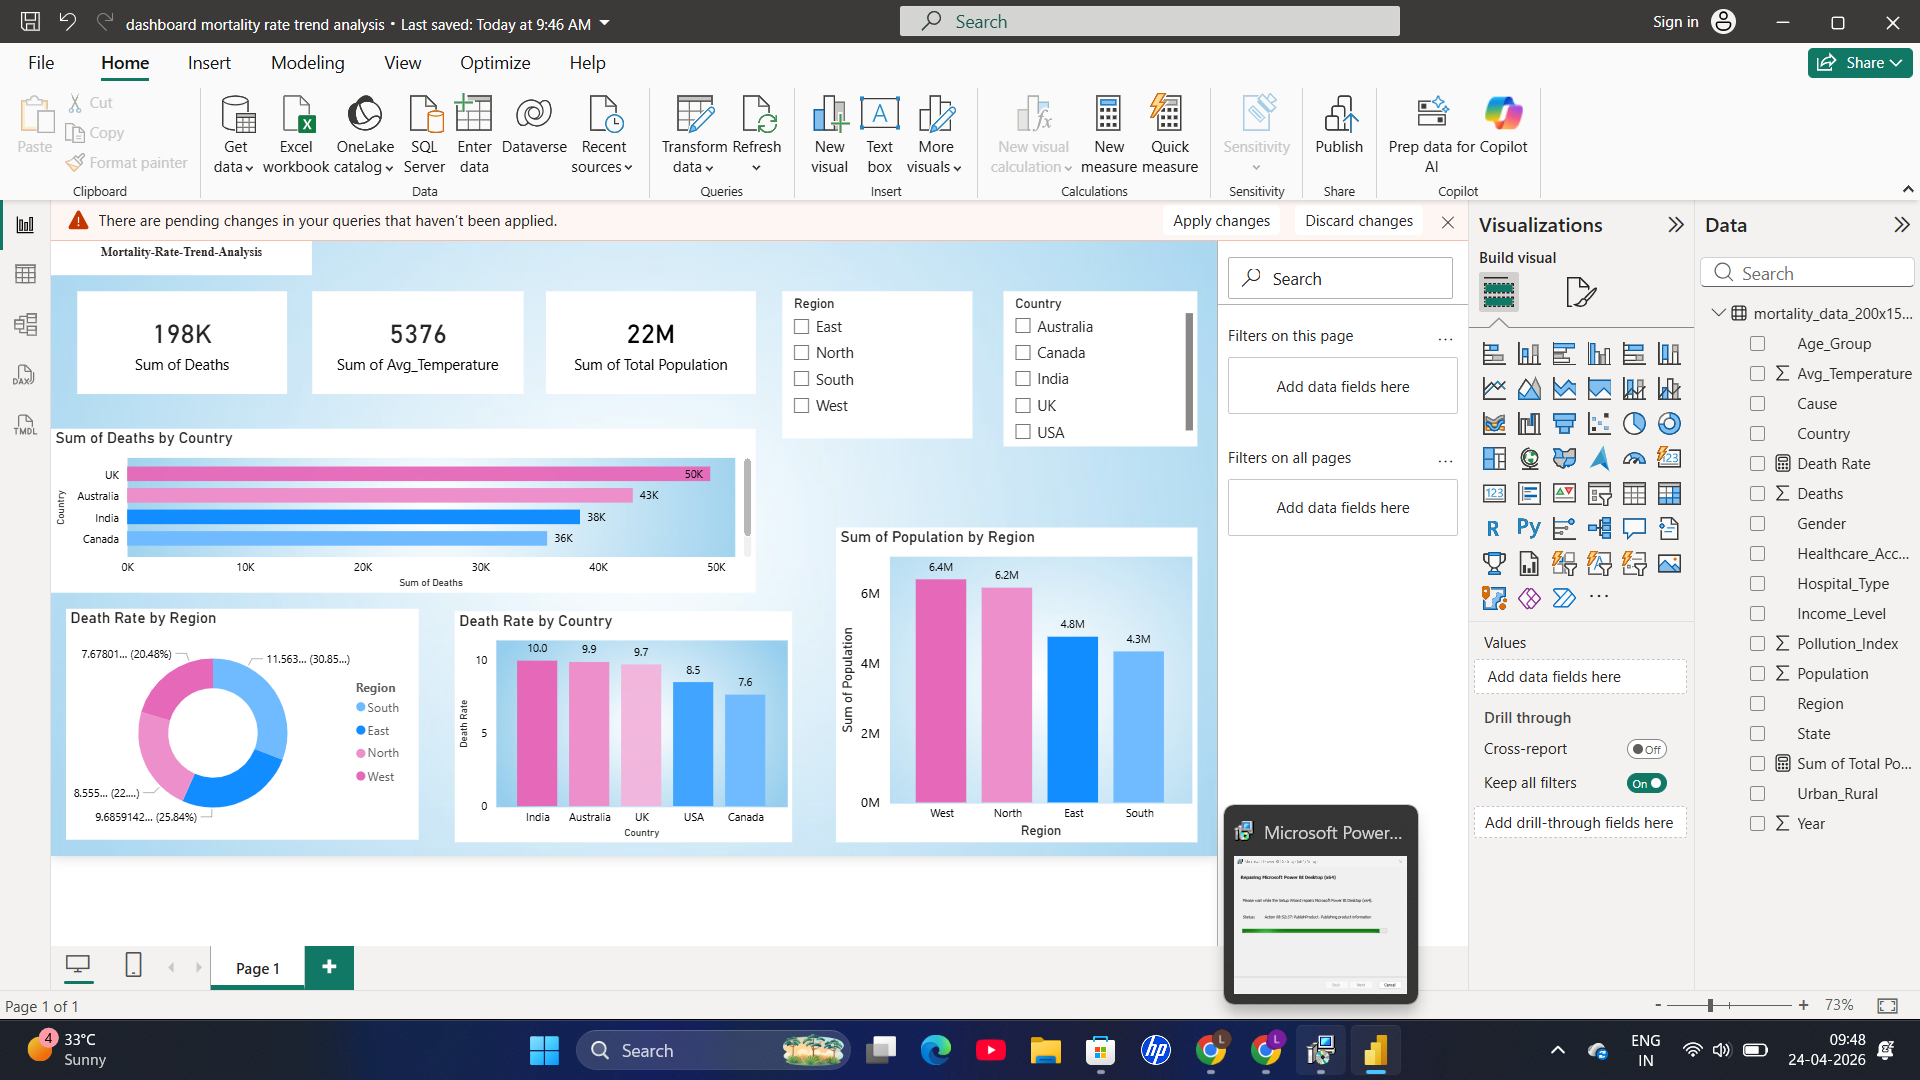

The page's visual inventory and layout, read from the dashboard file:
{"tool":"powerbi","page":{"name":"Page 1","canvas":[1280,720],"ordinal":0},"visuals":[{"type":"card","fields":{"Values":["Sum(mortality_data_200x15 (2).Deaths)"]},"box":[28.8,100.2,230.5,112.5],"z":0},{"type":"textbox","box":[0,42.5,286.8,39.8],"z":1},{"type":"card","fields":{"Values":["Sum(mortality_data_200x15 (2).Avg_Temperature)"]},"box":[286.8,100.2,231.9,112.5],"z":2},{"type":"card","fields":{"Values":["mortality_data_200x15 (2).Measure"]},"box":[543.4,100.2,230.5,112.5],"z":3},{"type":"slicer","fields":{"Values":["mortality_data_200x15 (2).Region"]},"box":[802.7,100.2,208.6,161.9],"z":4},{"type":"barChart","fields":{"Category":["mortality_data_200x15 (2).Country"],"Y":["Sum(mortality_data_200x15 (2).Deaths)"]},"box":[0,251.1,773.9,179.8],"z":5},{"type":"donutChart","fields":{"Category":["mortality_data_200x15 (2).Region"],"Y":["mortality_data_200x15 (2).Death Rate"]},"box":[16.5,448.7,387,253.9],"z":6},{"type":"slicer","fields":{"Values":["mortality_data_200x15 (2).Country"]},"box":[1045.6,100.2,212.7,170.2],"z":7},{"type":"clusteredColumnChart","fields":{"Category":["mortality_data_200x15 (2).Region"],"Y":["Sum(mortality_data_200x15 (2).Population)"]},"box":[861.8,359.5,396.6,345.8],"z":8},{"type":"clusteredColumnChart","fields":{"Category":["mortality_data_200x15 (2).Country"],"Y":["mortality_data_200x15 (2).Death Rate"]},"box":[443.2,451.5,370.5,253.9],"z":9}]}

Visuals, with their boxes on the page's 1280x720 design canvas (x1, y1, x2, y2). These are canvas units, not pixel positions in the 1920x1080 screenshot, which may show the page scaled, cropped or inside an application window:
card - Sum(mortality_data_200x15 (2).Deaths): pyautogui.locateOnScreen(29, 100, 259, 213)
textbox: pyautogui.locateOnScreen(0, 42, 287, 82)
card - Sum(mortality_data_200x15 (2).Avg_Temperature): pyautogui.locateOnScreen(287, 100, 519, 213)
card - mortality_data_200x15 (2).Measure: pyautogui.locateOnScreen(543, 100, 774, 213)
slicer - mortality_data_200x15 (2).Region: pyautogui.locateOnScreen(803, 100, 1011, 262)
barChart - mortality_data_200x15 (2).Country x Sum(mortality_data_200x15 (2).Deaths): pyautogui.locateOnScreen(0, 251, 774, 431)
donutChart - mortality_data_200x15 (2).Region x mortality_data_200x15 (2).Death Rate: pyautogui.locateOnScreen(16, 449, 404, 703)
slicer - mortality_data_200x15 (2).Country: pyautogui.locateOnScreen(1046, 100, 1258, 270)
clusteredColumnChart - mortality_data_200x15 (2).Region x Sum(mortality_data_200x15 (2).Population): pyautogui.locateOnScreen(862, 360, 1258, 705)
clusteredColumnChart - mortality_data_200x15 (2).Country x mortality_data_200x15 (2).Death Rate: pyautogui.locateOnScreen(443, 452, 814, 705)
